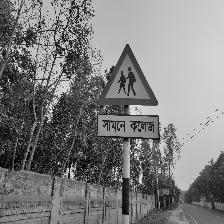College-in-front: (89, 41, 182, 149)
